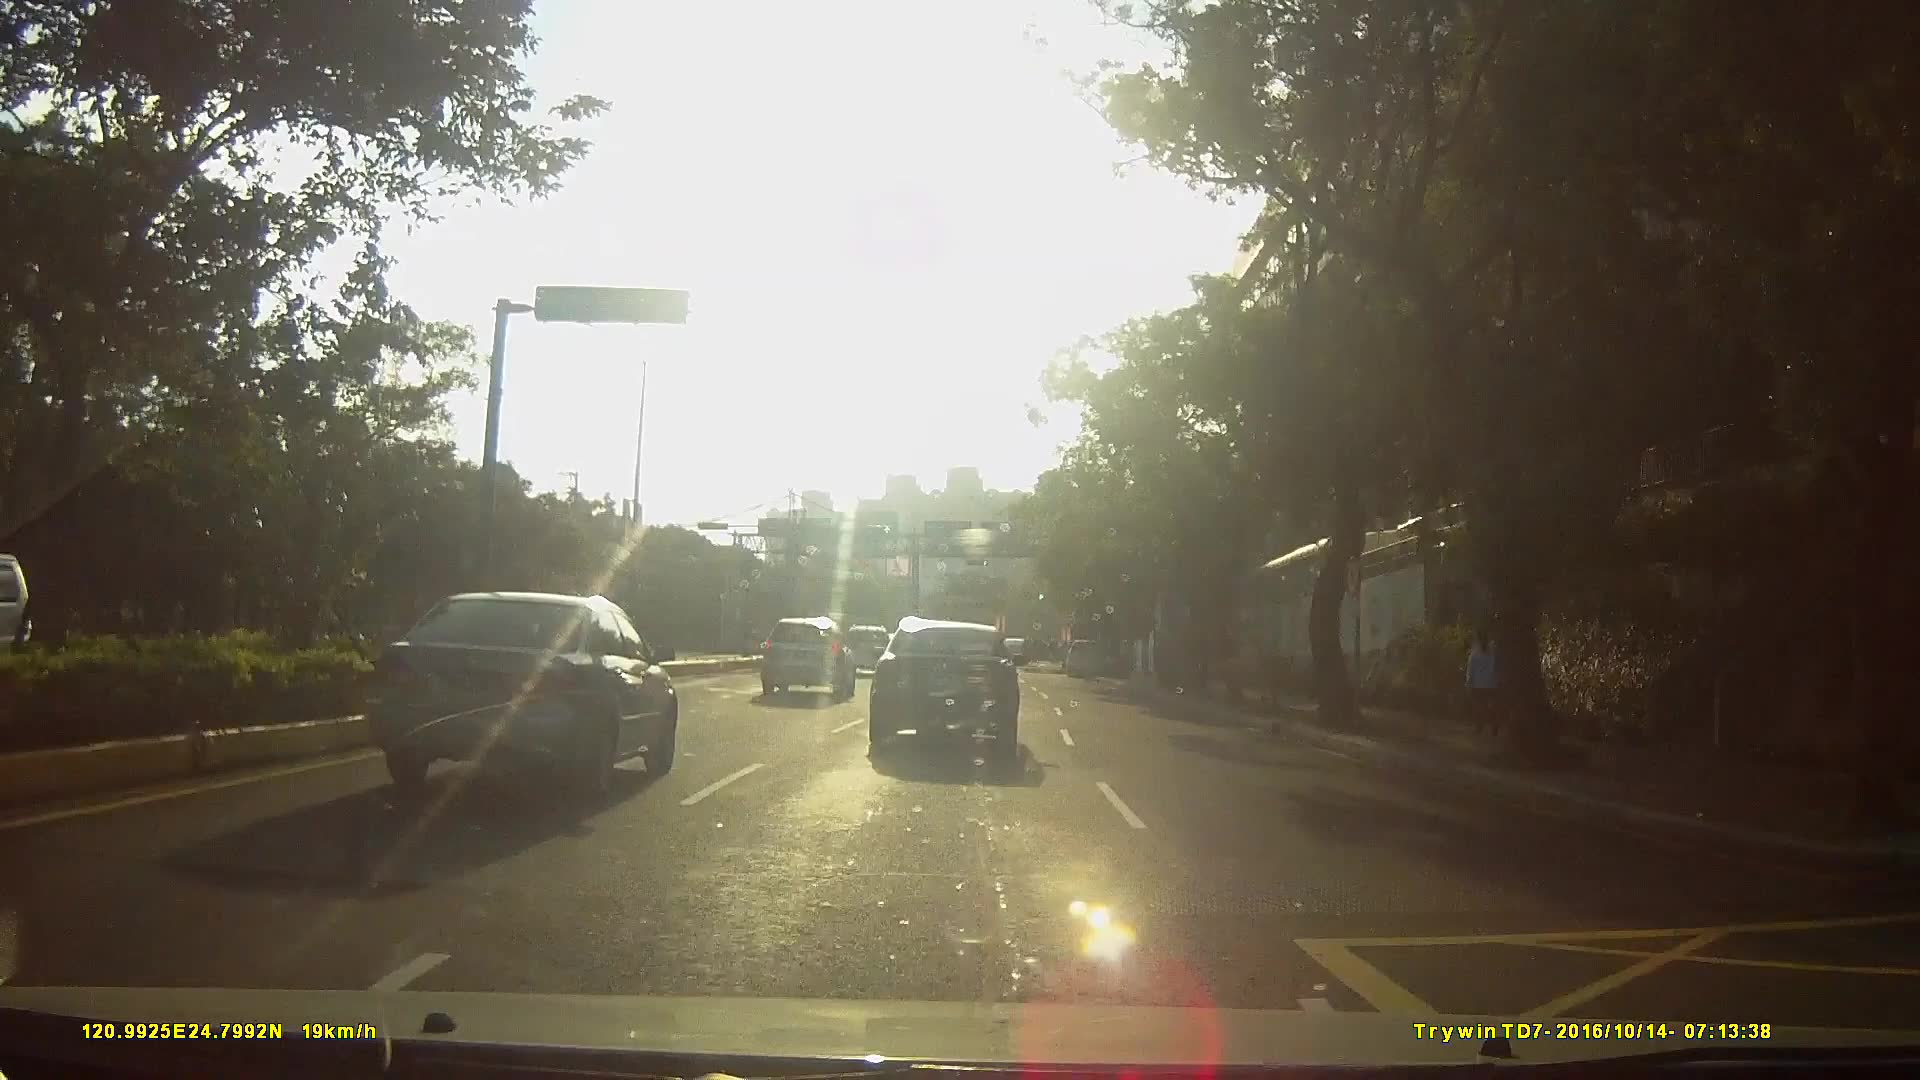pedestrian: (1465, 609, 1508, 734)
vehicle: (365, 588, 676, 803), (867, 617, 1042, 762), (757, 616, 857, 704), (841, 626, 896, 674), (1064, 639, 1112, 682)
